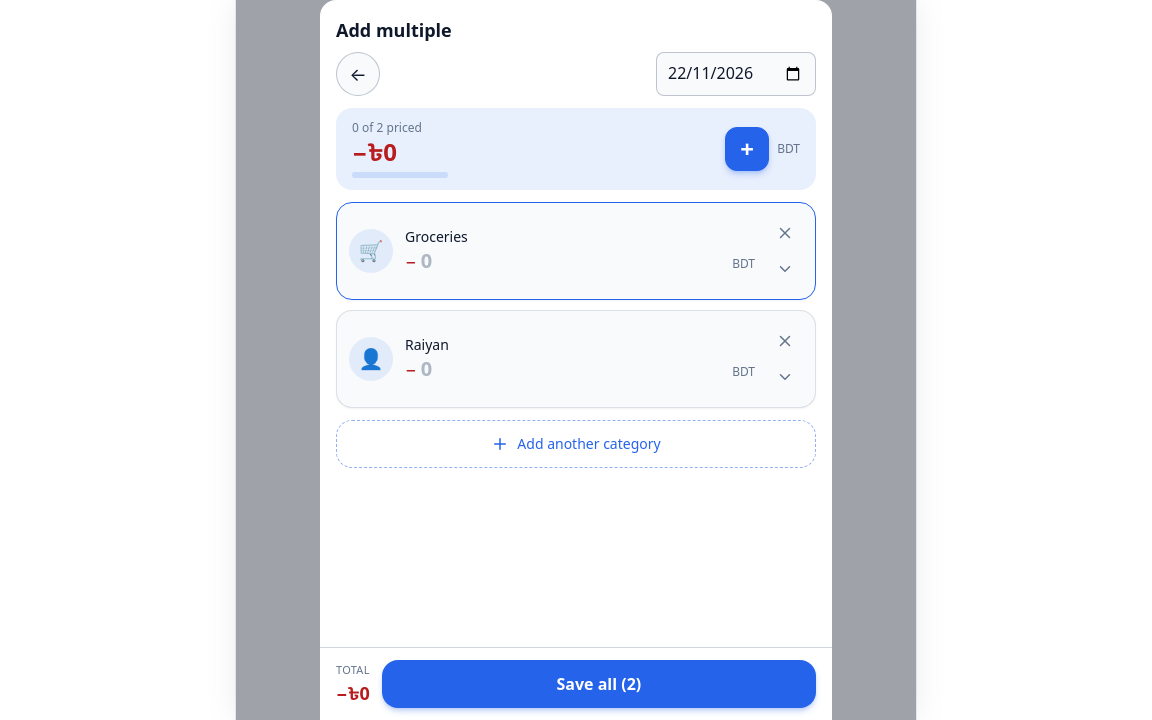
Test: BasketSheet › blocks save and writes nothing when a row has no amount
Type "100" into the field named "Amount for Groceries". click: (574, 261)
box: [421,247,728,275]
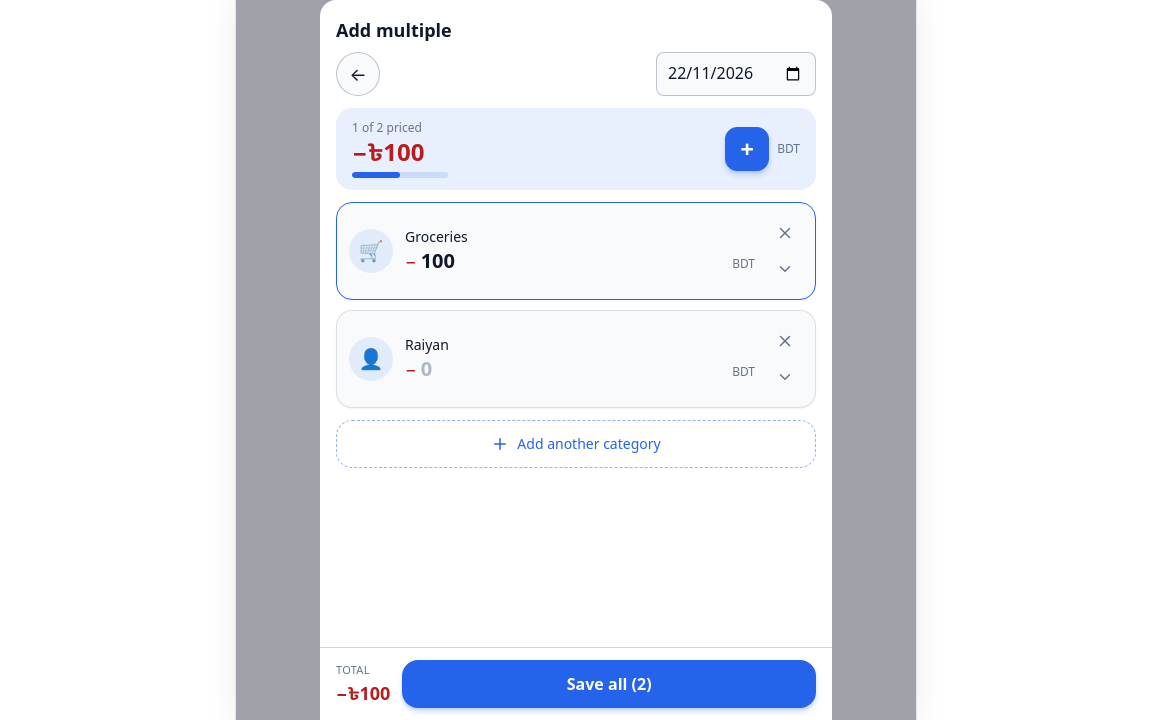
Click the button "Save all (2)". click: (609, 684)
box: [402,660,816,708]
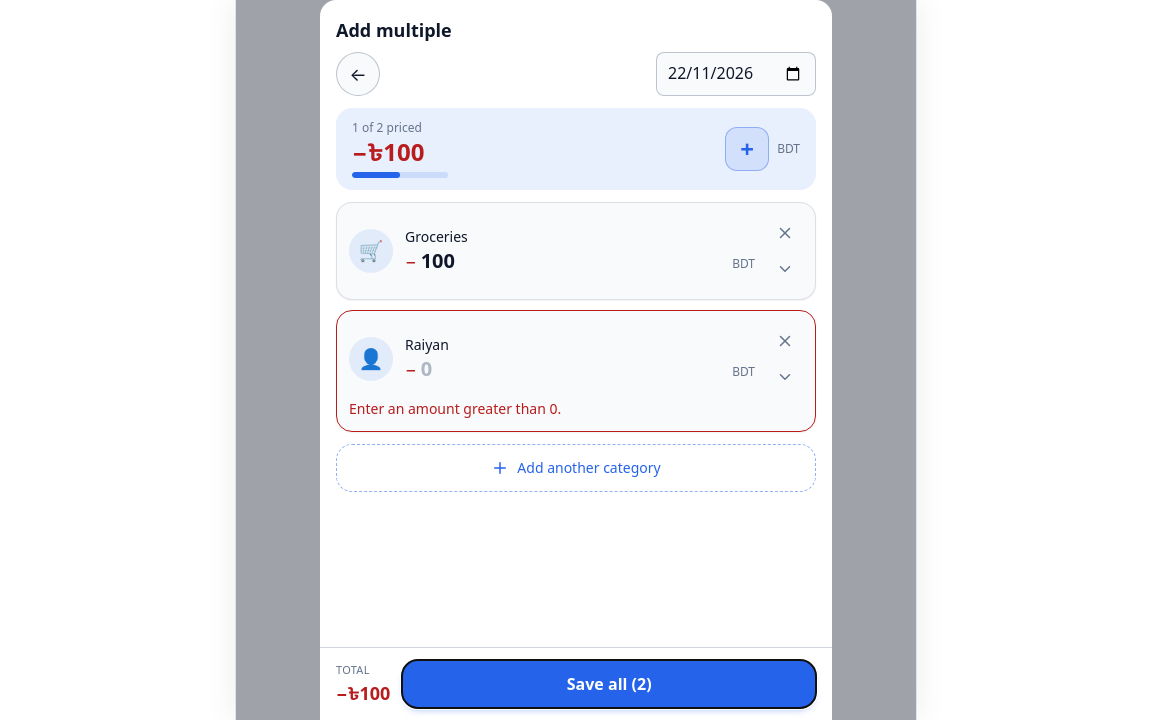
Expected: the message shows "greater than 0", [349,399,561,418]
